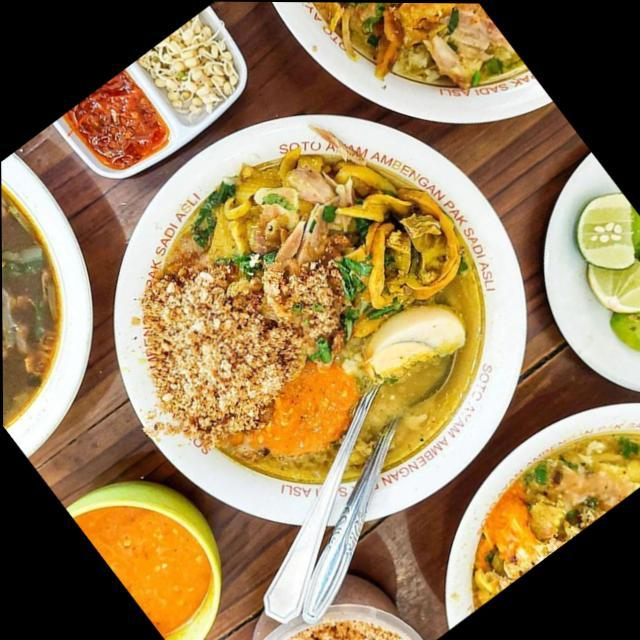Soto: (140, 139, 479, 484)
